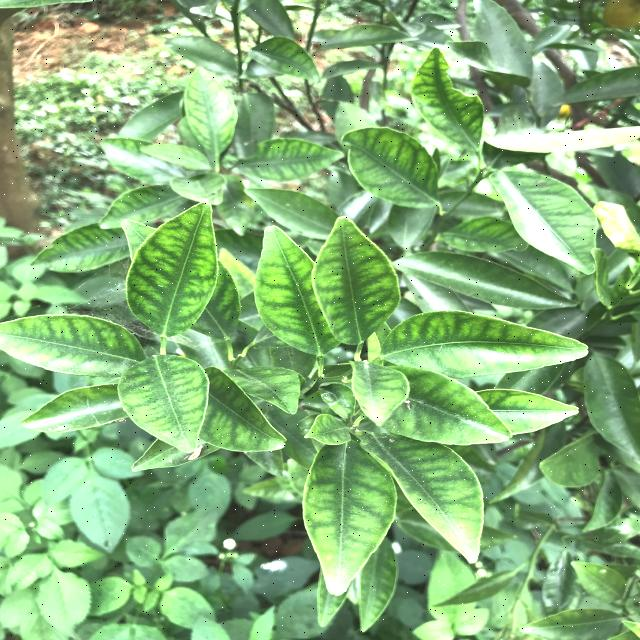greening: (372, 310, 590, 372), (307, 451, 401, 592), (130, 205, 220, 334), (313, 218, 401, 334), (409, 451, 480, 562), (395, 378, 510, 443), (132, 359, 210, 452), (256, 224, 314, 344)
